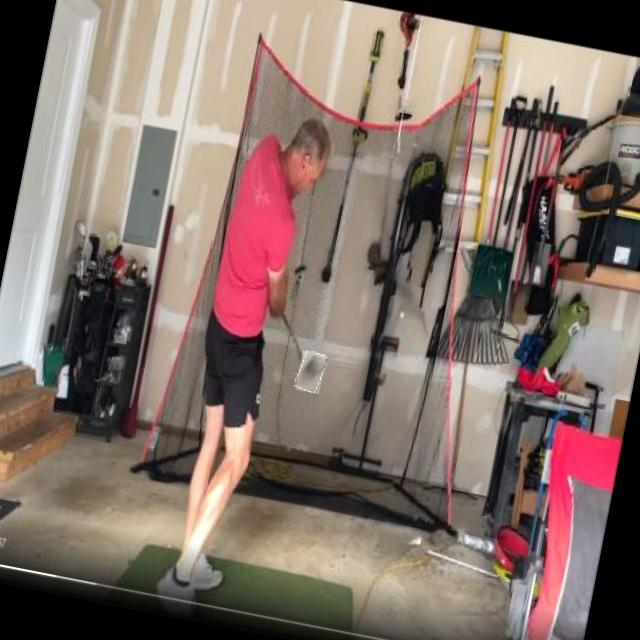club head: (296, 350, 326, 394)
